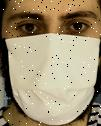with_mask: (2, 1, 101, 126)
